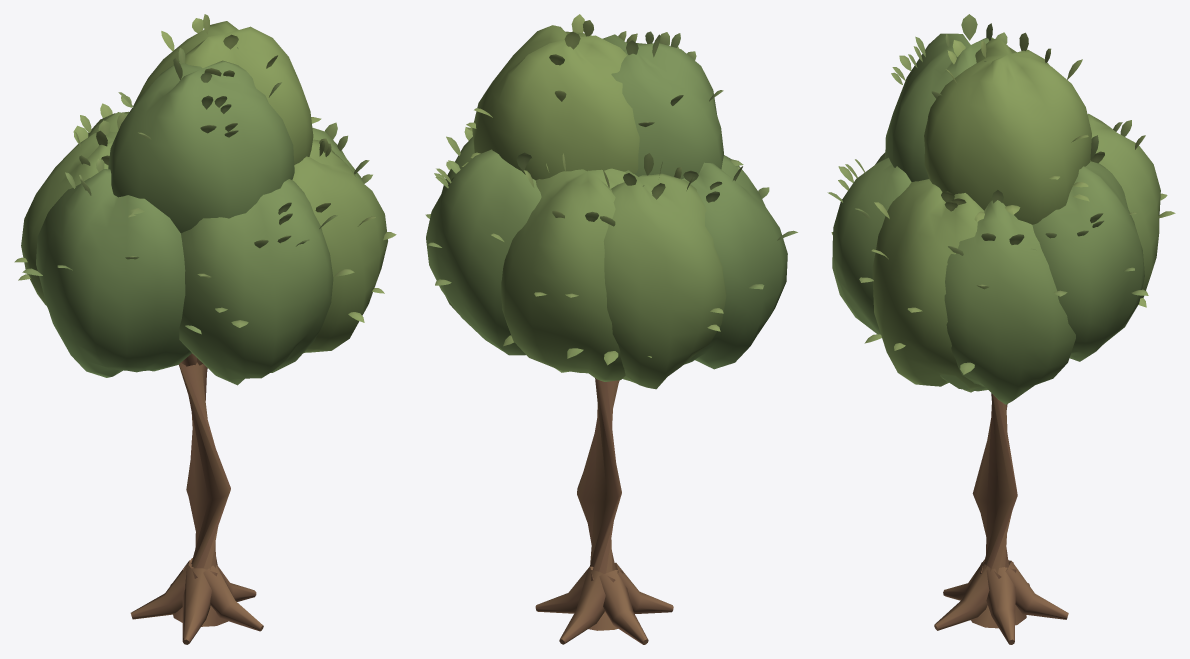
The model's file is Tree_Aspen_Tall.glb.
The picture shows the model from 3 angles, left to right: view 1: azimuth 30°, elevation 25°; view 2: azimuth 150°, elevation 25°; view 3: azimuth 270°, elevation 25°; orthographic projection.
Visible parts, largest first — view 1: Tree_Aspen_Tall; view 2: Tree_Aspen_Tall; view 3: Tree_Aspen_Tall.
Part boxes in pixels (x1,y1,x2,y2): Tree_Aspen_Tall: (14, 14, 396, 644); Tree_Aspen_Tall: (425, 14, 797, 644); Tree_Aspen_Tall: (827, 14, 1175, 644).
Size of the model in its own units: 3.72 by 6.29 by 3.36.
